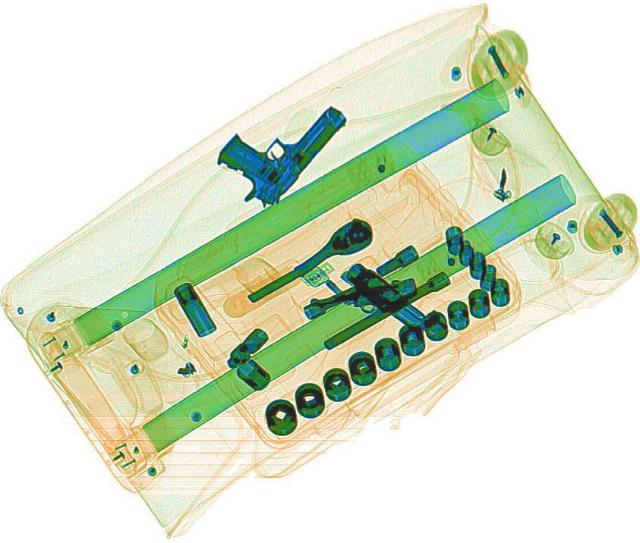Gun: (196, 79, 348, 210), (302, 273, 430, 347)
